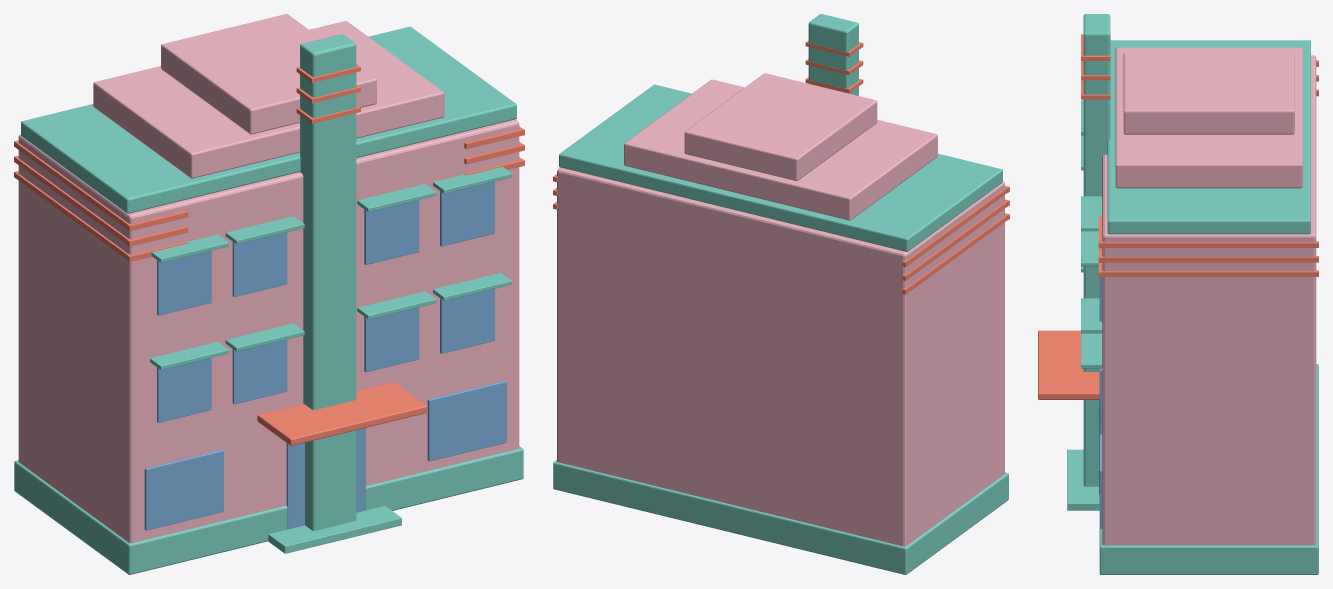
File: deco_hotel_pink.glb
3 views of the same model, side by side, from view 1: azimuth 30°, elevation 25°; view 2: azimuth 150°, elevation 25°; view 3: azimuth 270°, elevation 25° (orthographic). The views are drawn at different scales.
Visible parts, largest first — view 1: body, fin, step0, step1, base, step2, canopy, gwin-2.9, gwin2.9, win0-1.35, win1-1.35, win11.35 (+18 smaller); view 2: body, step0, step1, step2, base, fin, speed-11, speed-10, speed-12; view 3: body, step2, step0, step1, base, fin, canopy, step, speed11, speed10, speed12, brow02.9 (+4 smaller).
Part boxes in pixels (x1,y1,x2,y2): body: [18, 119, 519, 543]; fin: [300, 34, 356, 530]; step0: [21, 26, 516, 213]; step1: [93, 21, 444, 178]; base: [14, 446, 523, 574]; step2: [161, 14, 376, 134]; canopy: [257, 382, 426, 445]; gwin-2.9: [144, 449, 223, 530]; gwin2.9: [427, 380, 506, 461]; win0-1.35: [232, 339, 287, 404]; win1-1.35: [232, 232, 287, 297]; win11.35: [364, 200, 419, 264]; body: [557, 167, 1004, 546]; step0: [559, 84, 1002, 251]; step1: [624, 79, 937, 220]; step2: [684, 73, 877, 180]; base: [553, 460, 1008, 574]; fin: [808, 14, 858, 95]; speed-11: [902, 200, 1007, 280]; speed-10: [902, 214, 1008, 294]; speed-12: [902, 186, 1008, 267]; body: [1102, 55, 1316, 545]; step2: [1123, 52, 1294, 134]; step0: [1107, 40, 1310, 234]; step1: [1115, 47, 1302, 188]; base: [1099, 364, 1318, 574]; fin: [1083, 14, 1110, 486]; canopy: [1038, 330, 1099, 399]; step: [1067, 449, 1099, 510]; speed11: [1099, 256, 1318, 262]; speed10: [1099, 270, 1318, 276]; speed12: [1099, 241, 1318, 247]; brow02.9: [1081, 333, 1102, 368].
Bounding box in the file's own units: 8.1 × 9.5 × 5.25.
